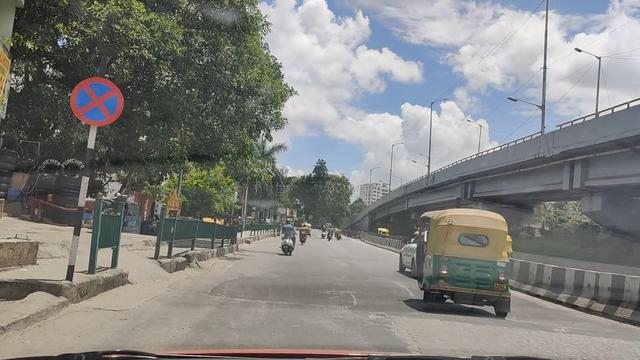LMV: (422, 200, 514, 314)
RoadDamages: (364, 307, 423, 329), (317, 286, 370, 306), (386, 280, 413, 297)
